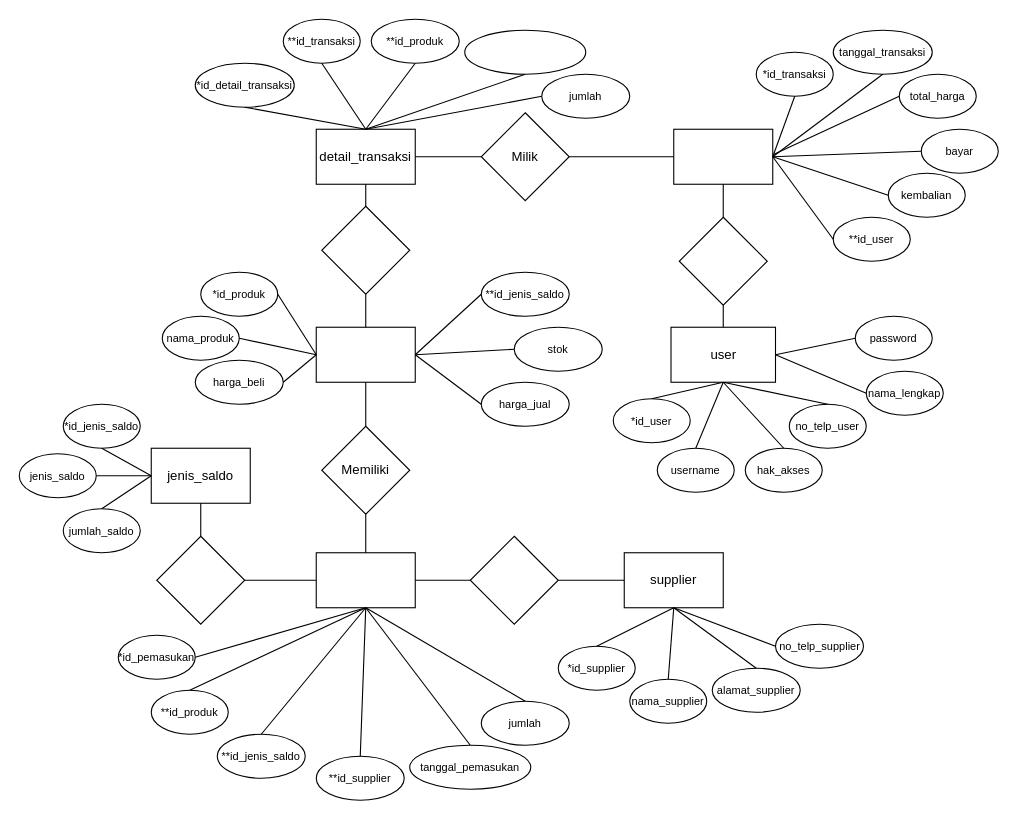
Some shapes in this 1018 by 820 pixel diagram are drawn without their labels. Here are the shapes that lost their labels. From the top down, the box of each, then its label:
(464, 29, 586, 74): subtotal
(673, 128, 773, 184): transaksi
(321, 205, 410, 294): Termasuk
(678, 216, 767, 305): Melakukan
(315, 326, 415, 382): produk
(156, 535, 245, 624): Dikategorikan Sebagai
(315, 552, 415, 608): pemasukan
(469, 535, 558, 624): Mengirimkan
